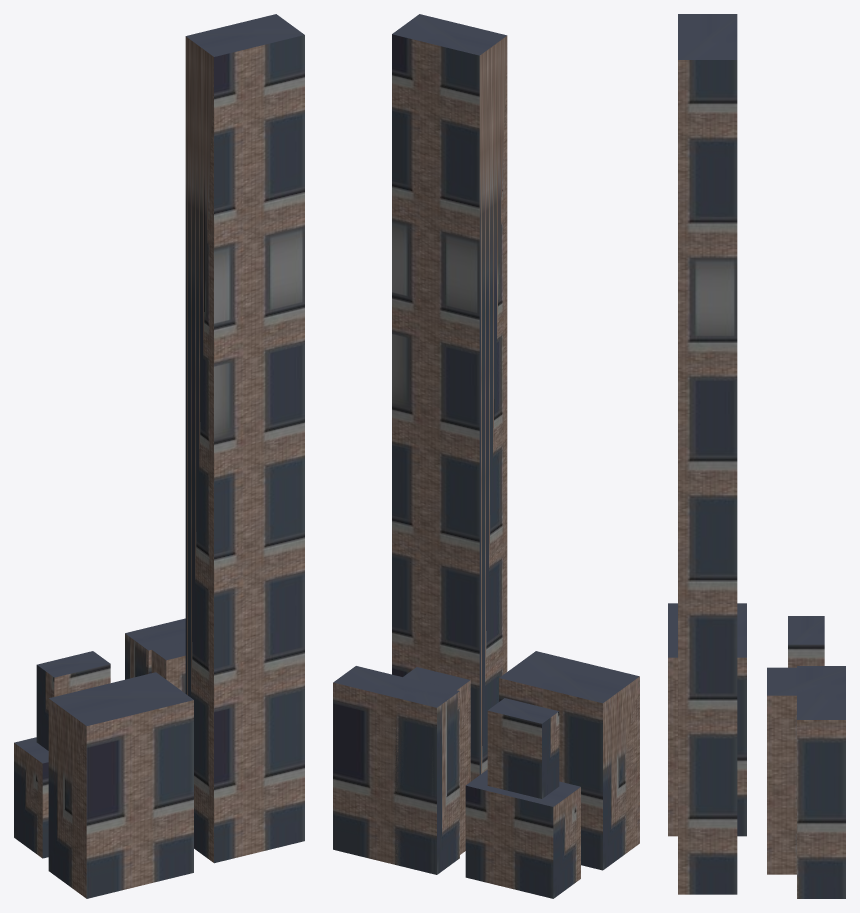
The model's file is block_35.obj.
3 views of the same model, side by side, from view 1: azimuth 30°, elevation 25°; view 2: azimuth 150°, elevation 25°; view 3: azimuth 270°, elevation 25° (orthographic). The views are drawn at different scales.
Visible parts, largest first — view 1: b3, b1, b0, b2; view 2: b3, b2, b0, b1; view 3: b3, b2, b1, b0.
Boxes of the visible parts, bbox=[...] form: b3: bbox=[185, 14, 304, 863]; b1: bbox=[48, 672, 193, 898]; b0: bbox=[14, 651, 110, 858]; b2: bbox=[125, 618, 185, 693]; b3: bbox=[392, 14, 507, 781]; b2: bbox=[333, 666, 470, 874]; b0: bbox=[465, 698, 580, 898]; b1: bbox=[499, 651, 639, 870]; b3: bbox=[678, 14, 737, 894]; b2: bbox=[767, 666, 845, 898]; b1: bbox=[668, 603, 746, 836]; b0: bbox=[788, 616, 824, 667].
Bounding box in the file's own units: 4.2 × 14 × 2.7.
